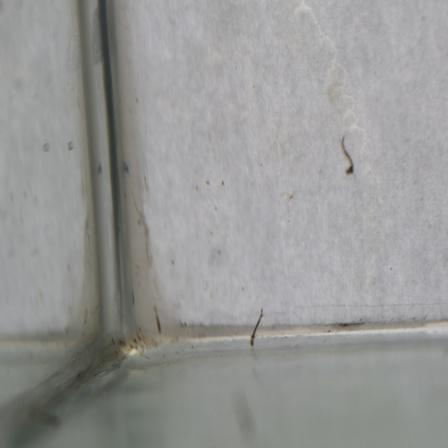Jentik-Nyamuk: (245, 304, 269, 350), (337, 133, 358, 179)
